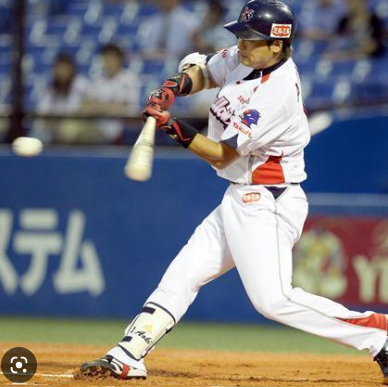ball: (11, 135, 44, 158)
